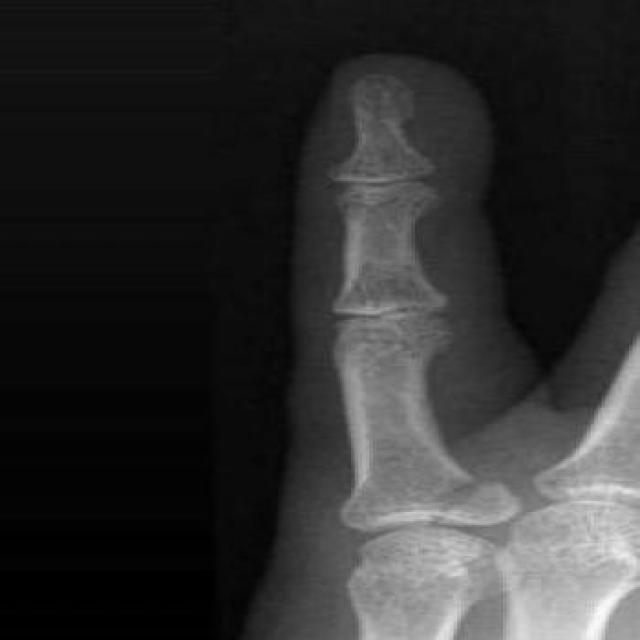Fracture: (402, 477, 543, 527)
